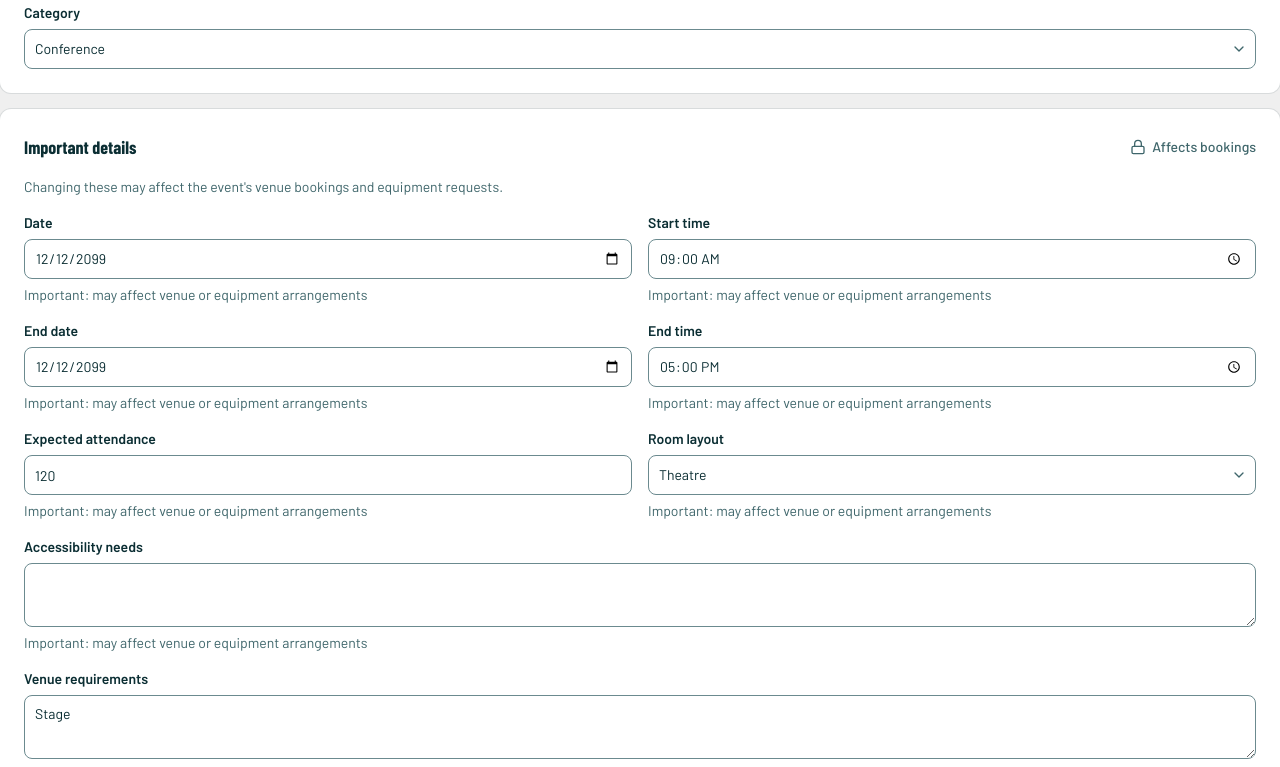
it: SCRUM-111/AC1, AC3, AC5 saving the form (111-S1, 111-S10, 111-S15) › 111-S10 End time set to 08:00 shows the shared message and sends nothing
(page scrolled)
Replace the text in the time field labelled "End time" with "08:00" at (952, 367), box x1=648 y1=347 x2=1256 y2=387
(page scrolled)
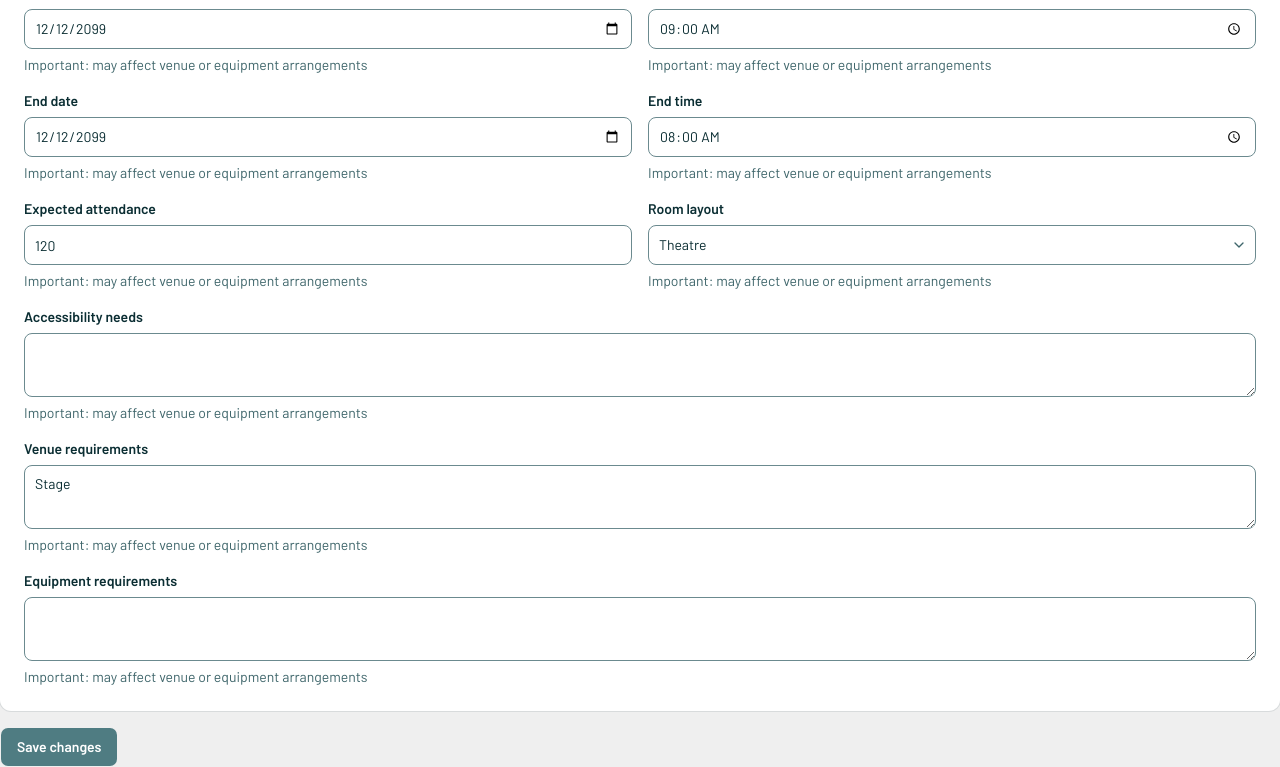
Click the button "Save changes" at (59, 747), box x1=0 y1=727 x2=118 y2=766
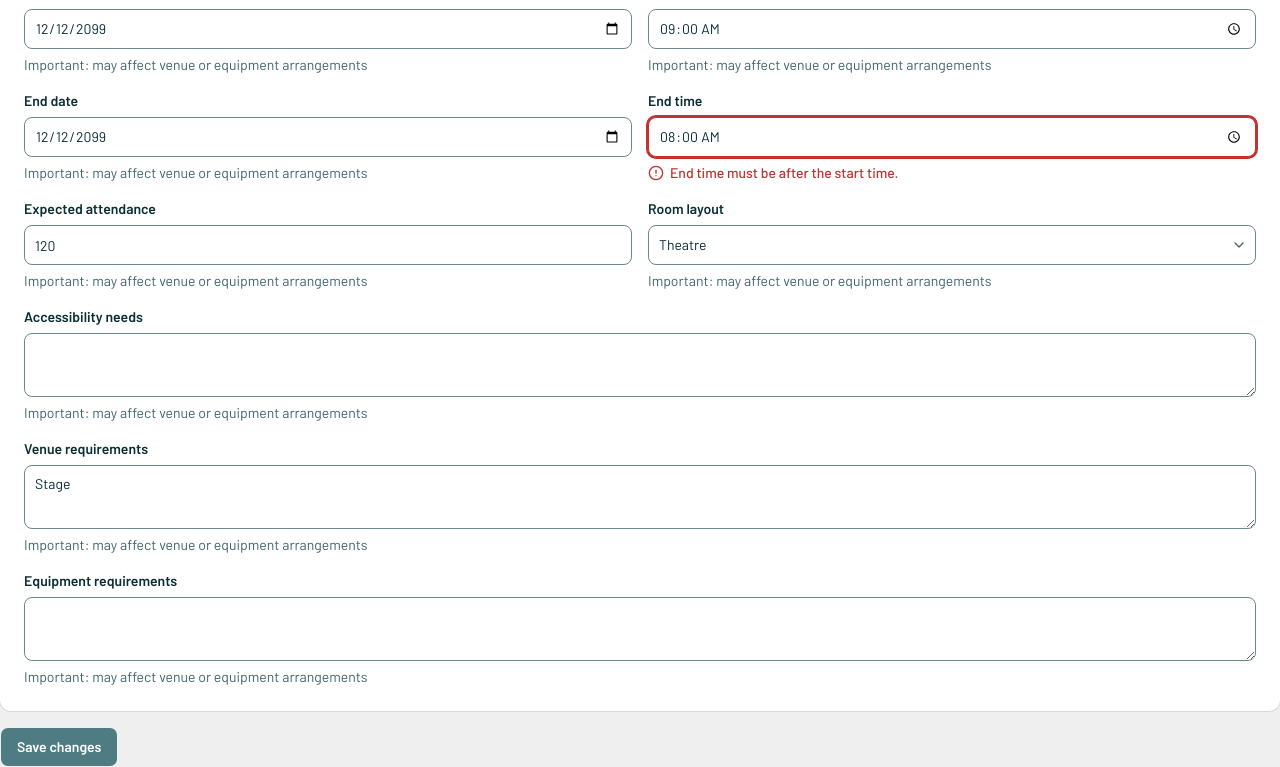
Expected: the text "End time must be after the start time." is shown, x1=648 y1=164 x2=898 y2=181
